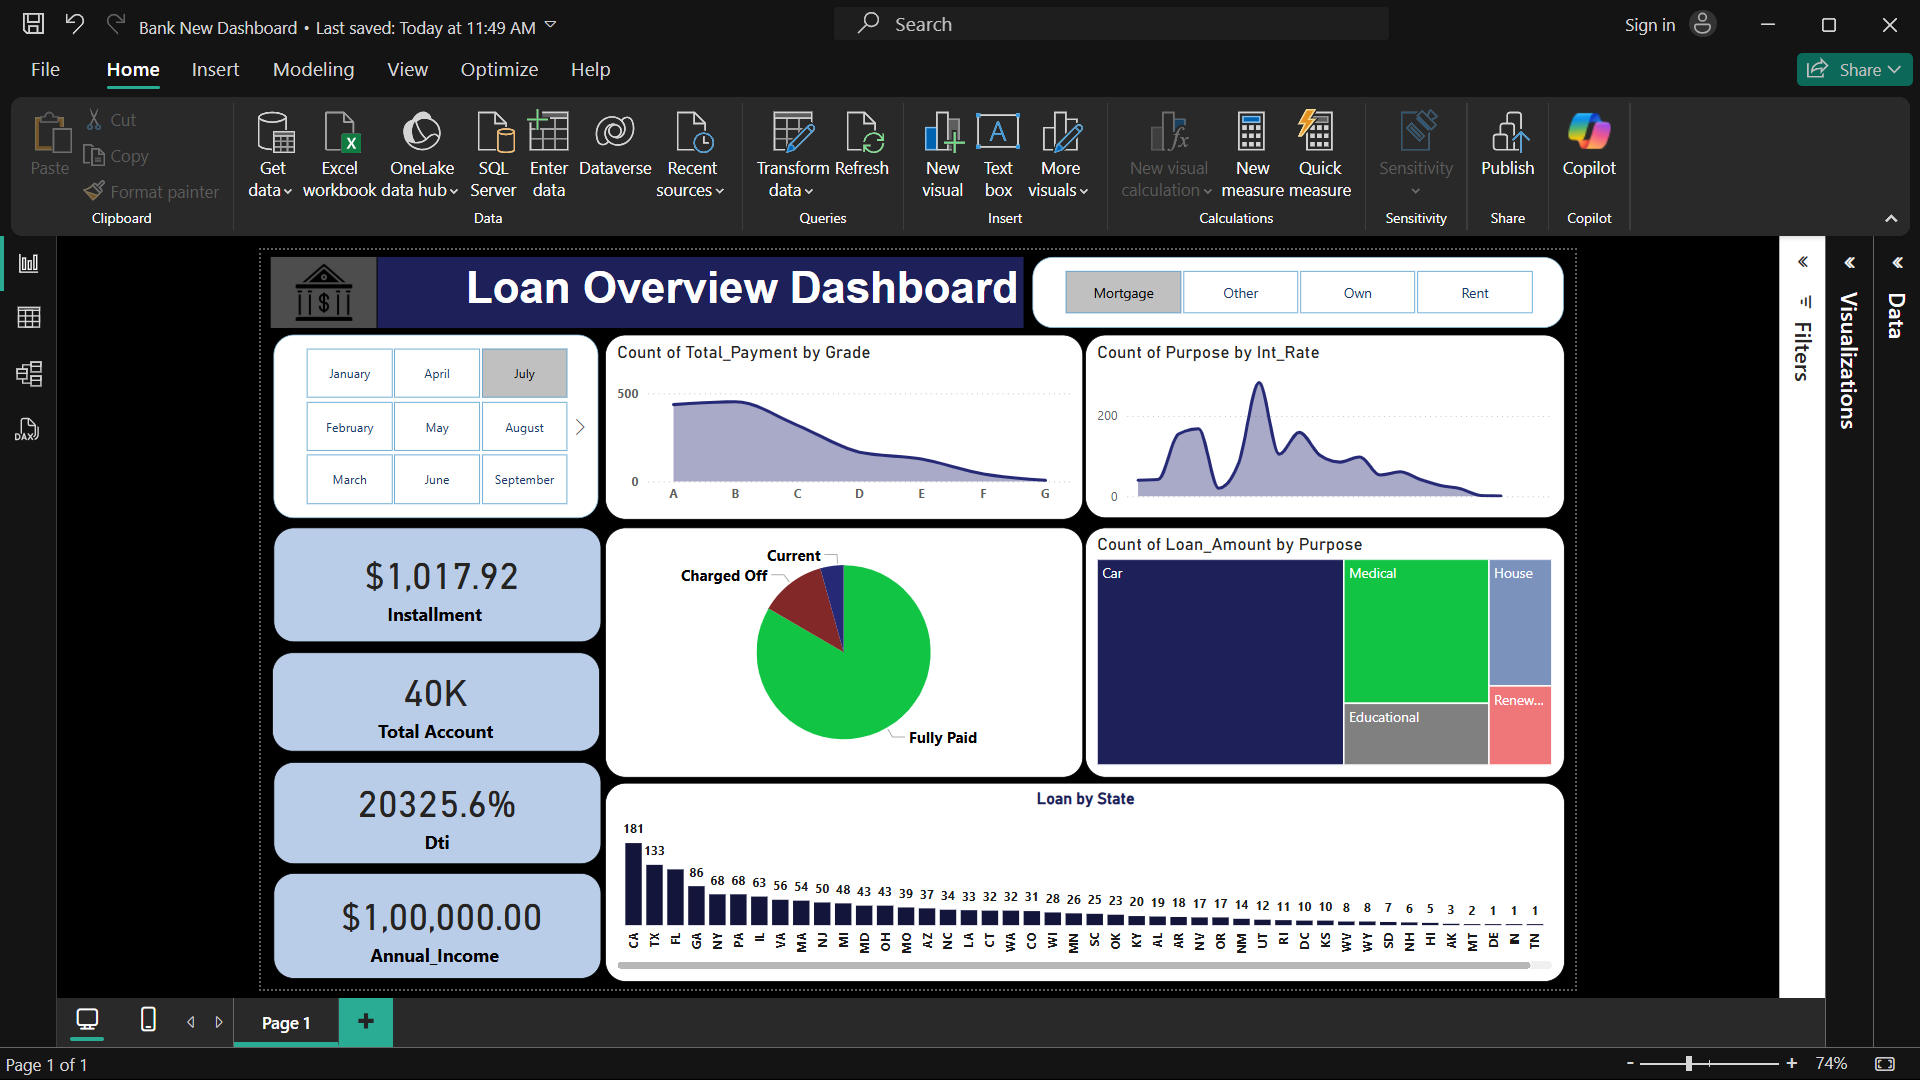

Layout of this report page (visuals, bound fields, positions):
{"tool":"powerbi","page":{"name":"Page 1","canvas":[1280,720],"ordinal":0},"visuals":[{"type":"clusteredColumnChart","title":"Loan by State","fields":{"Category":["Bank_Loan xlsx.Address_State"],"Y":["CountNonNull(Bank_Loan xlsx. Loan_Amount )"]},"box":[334.6,519.1,934.9,194.1],"z":0},{"type":"pieChart","title":"Loan_Status","fields":{"Category":["Bank_Loan xlsx.Loan_Status"],"Y":["CountNonNull(Bank_Loan xlsx. Loan_Amount )"]},"box":[334.6,269.9,465.4,243.7],"z":1000},{"type":"card","fields":{"Values":["Min(Bank_Loan xlsx. Installment )"]},"box":[12.4,269.9,319.4,111.5],"z":2000},{"type":"card","fields":{"Values":["Min(Bank_Loan xlsx. Annual_Income )"]},"box":[12.4,607.2,319.4,103.3],"z":3000},{"type":"card","fields":{"Values":["Sum(Bank_Loan xlsx.Total_Acc)"]},"box":[11,392.4,319.4,96.4],"z":4000},{"type":"slicer","fields":{"Values":["Bank_Loan xlsx.Home_Ownership"]},"box":[751.8,6.9,517.7,68.8],"z":5000},{"type":"areaChart","fields":{"Y":["CountNonNull(Bank_Loan xlsx. Total_Payment )"],"Category":["Bank_Loan xlsx.Grade"]},"box":[334.6,82.6,465.4,180.4],"z":6000},{"type":"treemap","fields":{"Group":["Bank_Loan xlsx.Purpose"],"Values":["CountNonNull(Bank_Loan xlsx. Loan_Amount )"]},"box":[802.7,269.9,466.8,243.7],"z":7000},{"type":"areaChart","fields":{"Category":["Bank_Loan xlsx.Int_Rate"],"Y":["CountNonNull(Bank_Loan xlsx.Purpose)"]},"box":[802.7,82.6,466.8,179],"z":8000},{"type":"card","fields":{"Values":["Sum(Bank_Loan xlsx.Dti)"]},"box":[12.4,498.4,319.4,99.1],"z":9000},{"type":"slicer","fields":{"Values":["Bank_Loan xlsx.Month"]},"box":[12.4,82.6,316.7,179],"z":10000},{"type":"textbox","box":[112.9,6.9,629.2,68.8],"z":11000},{"type":"image","box":[9.6,6.9,103.3,68.8],"z":12000}]}

Visuals, with their boxes on the page's 1280x720 design canvas (x1, y1, x2, y2). These are canvas units, not pixel positions in the 1920x1080 screenshot, which may show the page scaled, cropped or inside an application window:
"Loan by State" clusteredColumnChart: bbox(335, 519, 1270, 713)
"Loan_Status" pieChart: bbox(335, 270, 800, 514)
card - Min(Bank_Loan xlsx. Installment ): bbox(12, 270, 332, 381)
card - Min(Bank_Loan xlsx. Annual_Income ): bbox(12, 607, 332, 710)
card - Sum(Bank_Loan xlsx.Total_Acc): bbox(11, 392, 330, 489)
slicer - Bank_Loan xlsx.Home_Ownership: bbox(752, 7, 1270, 76)
areaChart - CountNonNull(Bank_Loan xlsx. Total_Payment ) x Bank_Loan xlsx.Grade: bbox(335, 83, 800, 263)
treemap - Bank_Loan xlsx.Purpose x CountNonNull(Bank_Loan xlsx. Loan_Amount ): bbox(803, 270, 1270, 514)
areaChart - Bank_Loan xlsx.Int_Rate x CountNonNull(Bank_Loan xlsx.Purpose): bbox(803, 83, 1270, 262)
card - Sum(Bank_Loan xlsx.Dti): bbox(12, 498, 332, 598)
slicer - Bank_Loan xlsx.Month: bbox(12, 83, 329, 262)
textbox: bbox(113, 7, 742, 76)
image: bbox(10, 7, 113, 76)
